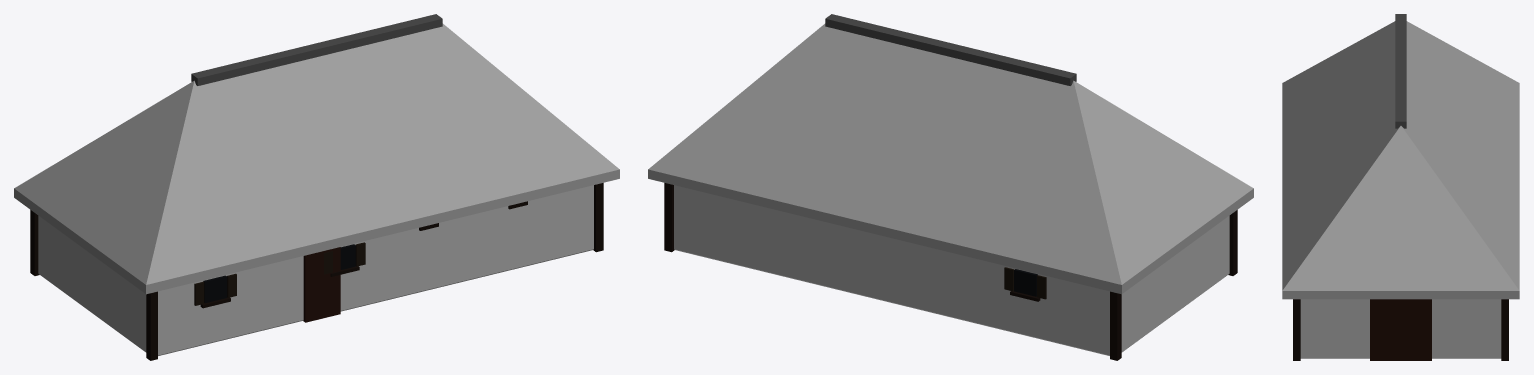
The model's file is home_long_h.fbx.
3 views of the same model, side by side, from view 1: azimuth 30°, elevation 25°; view 2: azimuth 150°, elevation 25°; view 3: azimuth 270°, elevation 25° (orthographic). The views are drawn at different scales.
Visible parts, largest first — view 1: home_long_h; view 2: home_long_h; view 3: home_long_h.
Boxes of the visible parts, box(x1,y1,x2,y2) form: home_long_h: box(14, 14, 619, 360); home_long_h: box(648, 14, 1253, 360); home_long_h: box(1282, 14, 1519, 360).
Bounding box in the file's own units: 12.76 × 5.55 × 6.16.
